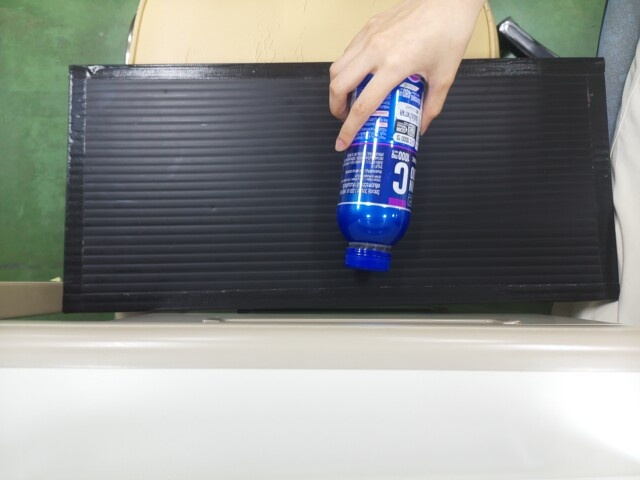plastic_bottle: (340, 73, 427, 268)
